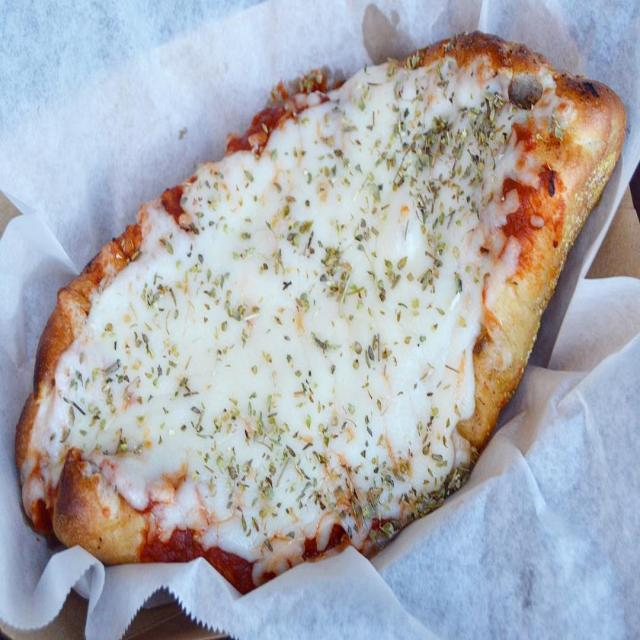pizza: (16, 34, 625, 591)
